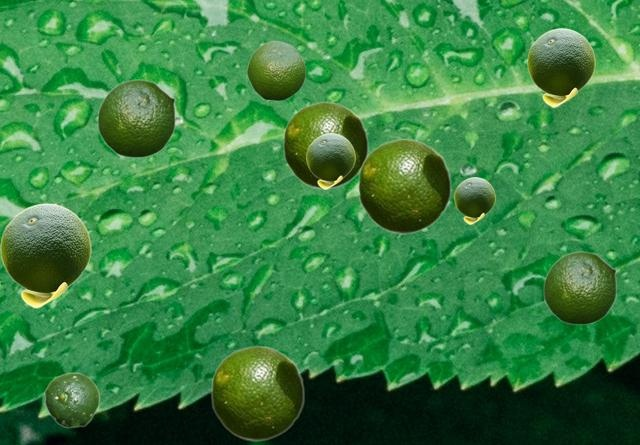calamansi: (0, 203, 90, 307), (357, 138, 451, 233), (210, 345, 304, 440), (282, 101, 368, 188), (97, 79, 175, 157), (543, 251, 616, 324), (527, 28, 594, 106), (246, 40, 305, 100), (44, 372, 99, 427), (306, 133, 354, 188), (454, 177, 494, 223)
